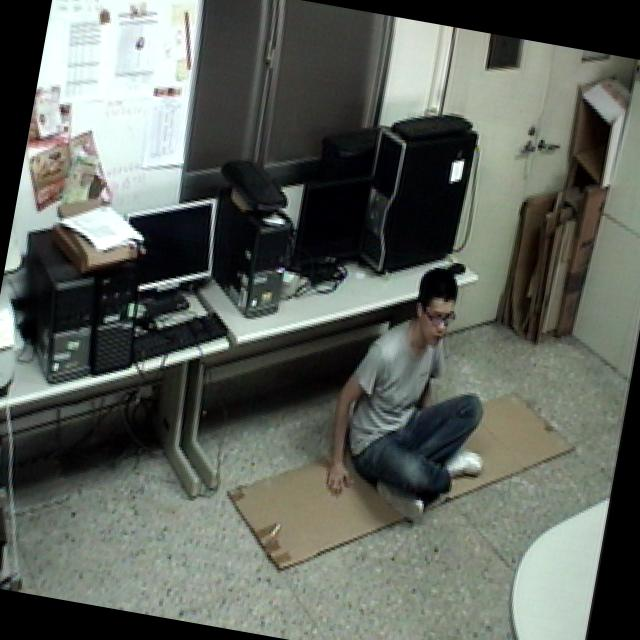sit: (312, 254, 517, 535)
